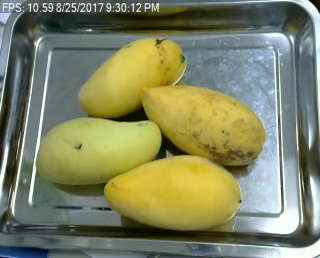Mango: (103, 153, 243, 231), (142, 85, 266, 166), (76, 37, 187, 118), (35, 117, 159, 183)
